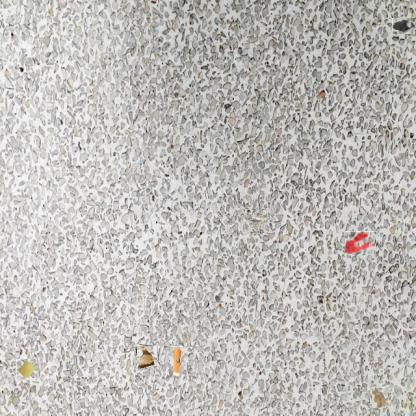dirty: (245, 209, 270, 233), (135, 345, 159, 368), (16, 358, 37, 380), (171, 346, 183, 383), (371, 389, 390, 407)
liquid: (346, 231, 378, 254), (392, 18, 415, 34)
